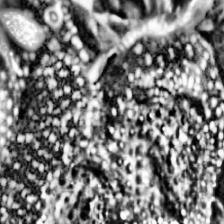Anthracnose Fruit Rot: (110, 97, 221, 224), (33, 157, 116, 224)
